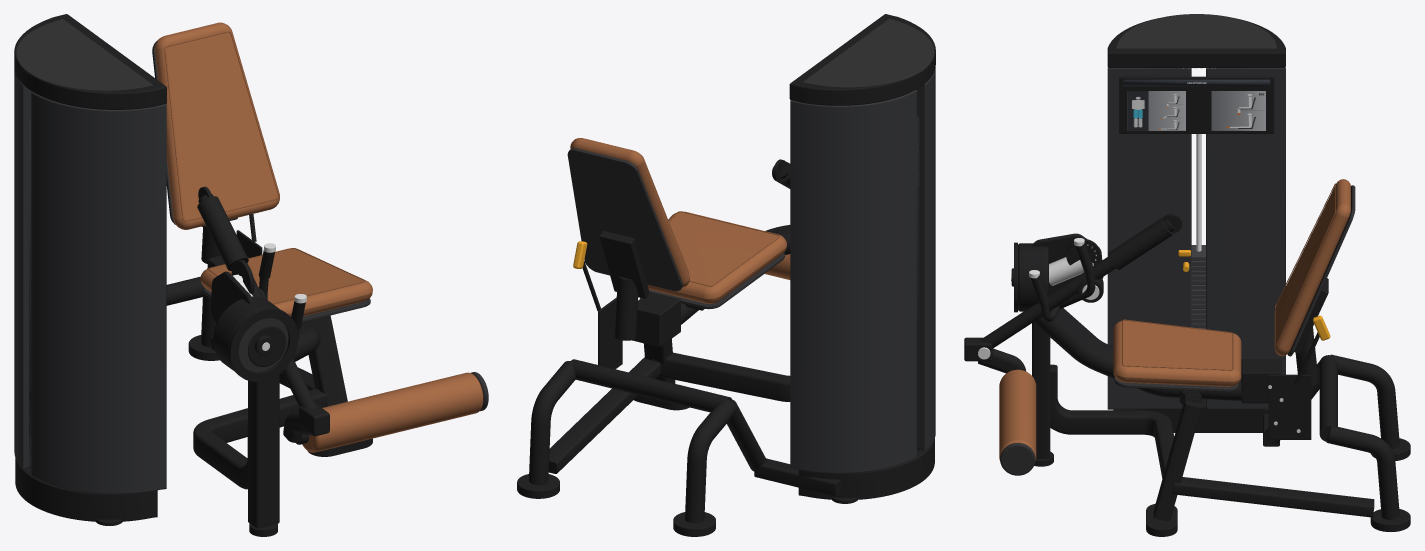
File: precor-resolute-series-leg-extension_v027.glb
3 renders of one model, left to right at view 1: azimuth 30°, elevation 25°; view 2: azimuth 150°, elevation 25°; view 3: azimuth 270°, elevation 25°, orthographic. The views are drawn at different scales.
Parts seen in each view (by area): view 1: precor-resolute-series-leg-extension_shroud, precor-resolute-series-leg-extension_pad.002, precor-resolute-series-leg-extension_frame.008, precor-resolute-series-leg-extension_frame, precor-resolute-series-leg-extension_pad, precor-resolute-series-leg-extension_plastic, precor-resolute-series-leg-extension_pad.001, precor-resolute-series-leg-extension_frame.004, precor-resolute-series-leg-extension_rubber.001, precor-resolute-series-leg-extension_frame.003, precor-resolute-series-leg-extension_frame.002, precor-resolute-series-leg-extension_frame.005 (+6 smaller); view 2: precor-resolute-series-leg-extension_shroud, precor-resolute-series-leg-extension_frame.008, precor-resolute-series-leg-extension_plastic.004, precor-resolute-series-leg-extension_frame, precor-resolute-series-leg-extension_pad.001, precor-resolute-series-leg-extension_frame.004, precor-resolute-series-leg-extension_plastic, precor-resolute-series-leg-extension_pad.002, precor-resolute-series-leg-extension_frame.005, precor-resolute-series-leg-extension_frame.001, precor-resolute-series-leg-extension_rubber.002, precor-resolute-series-leg-extension_frame.009 (+1 smaller); view 3: precor-resolute-series-leg-extension_shroud, precor-resolute-series-leg-extension_frame.008, precor-resolute-series-leg-extension_pad.001, precor-resolute-series-leg-extension_frame, precor-resolute-series-leg-extension_frame.004, precor-resolute-series-leg-extension_pad.002, precor-resolute-series-leg-extension_frame.001, precor-resolute-series-leg-extension_plastic, precor-resolute-series-leg-extension_pad, precor-resolute-series-leg-extension_frame.009, precor-resolute-series-leg-extension_decal, precor-resolute-series-leg-extension_decal.001 (+13 smaller).
Boxes of the visible parts, x1=… form: precor-resolute-series-leg-extension_shroud: x1=14, y1=70, x2=166, y2=494; precor-resolute-series-leg-extension_pad.002: x1=155, y1=22, x2=279, y2=229; precor-resolute-series-leg-extension_frame.008: x1=193, y1=268, x2=347, y2=528; precor-resolute-series-leg-extension_frame: x1=14, y1=14, x2=166, y2=521; precor-resolute-series-leg-extension_pad: x1=302, y1=372, x2=483, y2=452; precor-resolute-series-leg-extension_plastic: x1=16, y1=18, x2=152, y2=90; precor-resolute-series-leg-extension_pad.001: x1=200, y1=248, x2=372, y2=316; precor-resolute-series-leg-extension_frame.004: x1=166, y1=194, x2=316, y2=408; precor-resolute-series-leg-extension_rubber.001: x1=197, y1=196, x2=305, y2=329; precor-resolute-series-leg-extension_frame.003: x1=213, y1=296, x2=279, y2=371; precor-resolute-series-leg-extension_frame.002: x1=211, y1=271, x2=253, y2=323; precor-resolute-series-leg-extension_frame.005: x1=207, y1=255, x2=286, y2=366; precor-resolute-series-leg-extension_shroud: x1=790, y1=68, x2=935, y2=473; precor-resolute-series-leg-extension_frame.008: x1=529, y1=225, x2=840, y2=523; precor-resolute-series-leg-extension_plastic.004: x1=567, y1=148, x2=784, y2=309; precor-resolute-series-leg-extension_frame: x1=789, y1=14, x2=935, y2=499; precor-resolute-series-leg-extension_pad.001: x1=647, y1=211, x2=786, y2=303; precor-resolute-series-leg-extension_frame.004: x1=570, y1=164, x2=788, y2=471; precor-resolute-series-leg-extension_plastic: x1=803, y1=18, x2=934, y2=87; precor-resolute-series-leg-extension_pad.002: x1=570, y1=138, x2=689, y2=287; precor-resolute-series-leg-extension_frame.005: x1=632, y1=292, x2=680, y2=346; precor-resolute-series-leg-extension_frame.001: x1=599, y1=230, x2=704, y2=310; precor-resolute-series-leg-extension_rubber.002: x1=517, y1=395, x2=715, y2=536; precor-resolute-series-leg-extension_frame.009: x1=598, y1=297, x2=622, y2=369; precor-resolute-series-leg-extension_shroud: x1=1107, y1=67, x2=1285, y2=409; precor-resolute-series-leg-extension_frame.008: x1=978, y1=271, x2=1399, y2=520; precor-resolute-series-leg-extension_pad.001: x1=1113, y1=320, x2=1241, y2=386; precor-resolute-series-leg-extension_frame: x1=1107, y1=18, x2=1285, y2=432; precor-resolute-series-leg-extension_frame.004: x1=980, y1=219, x2=1337, y2=443; precor-resolute-series-leg-extension_pad.002: x1=1274, y1=179, x2=1350, y2=356; precor-resolute-series-leg-extension_frame.001: x1=1011, y1=76, x2=1328, y2=391; precor-resolute-series-leg-extension_plastic: x1=1116, y1=14, x2=1276, y2=48; precor-resolute-series-leg-extension_pad: x1=999, y1=369, x2=1036, y2=461; precor-resolute-series-leg-extension_frame.009: x1=1268, y1=374, x2=1311, y2=439; precor-resolute-series-leg-extension_decal: x1=1127, y1=91, x2=1185, y2=130; precor-resolute-series-leg-extension_decal.001: x1=1211, y1=91, x2=1265, y2=130.
Bounding box in the file's own units: 1.26 × 1.48 × 1.56.
Materials: 14 (2 with a texture image).
